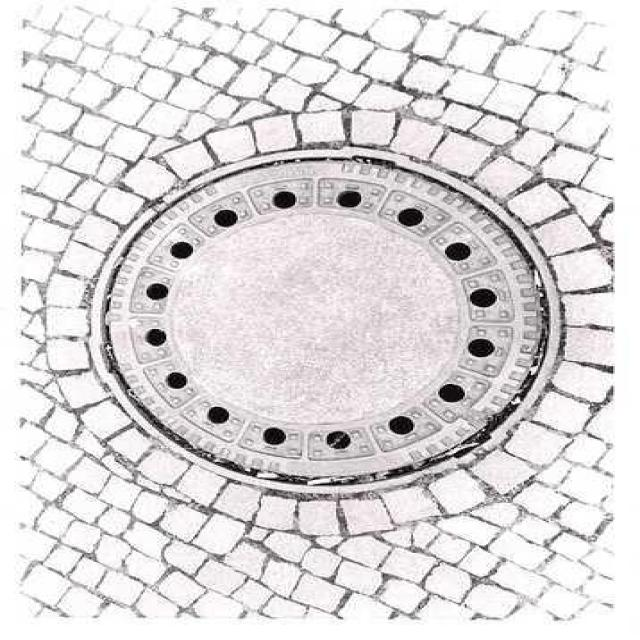manhole: (91, 147, 560, 493)
